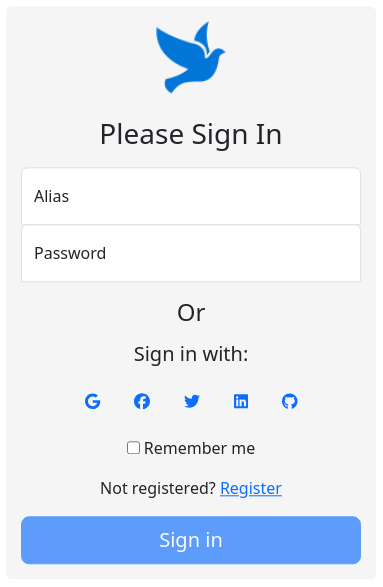
Test: Login Component › disables the signin button if either field is cleared
In the field labelled "Alias": (191, 196) [21,167,361,225], type "a"
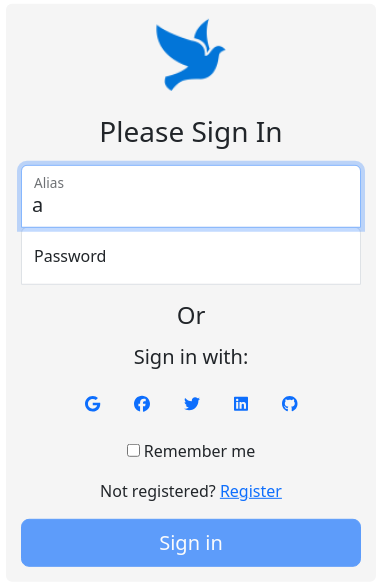
In the password field labelled "Password": (191, 255) [21,226,361,284], type "b"
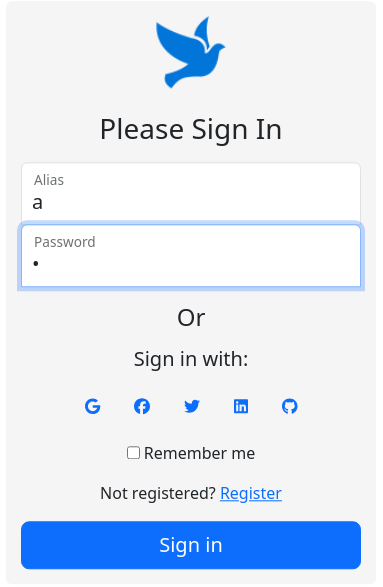
expect the button with aria-label "submitButton" is enabled: met, box [21,522,361,570]
Clear the field labelled "Alias": (191, 193) [21,162,361,225]
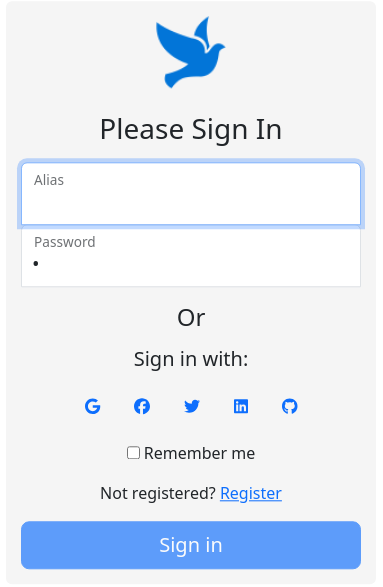
expect the button with aria-label "submitButton" is disabled: met, box [21,522,361,570]
In the field labelled "Alias": (191, 193) [21,162,361,225], type "1"
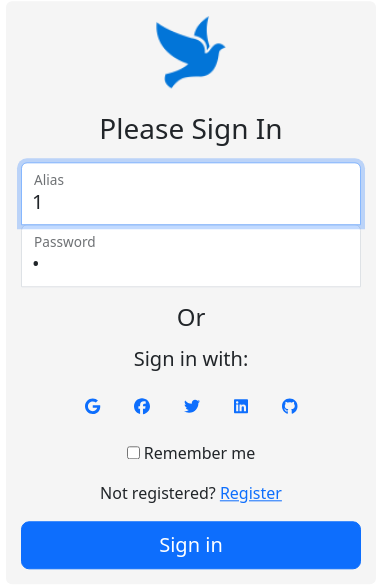
expect the button with aria-label "submitButton" is enabled: met, box [21,522,361,570]
Clear the password field labelled "Password": (191, 255) [21,224,361,287]
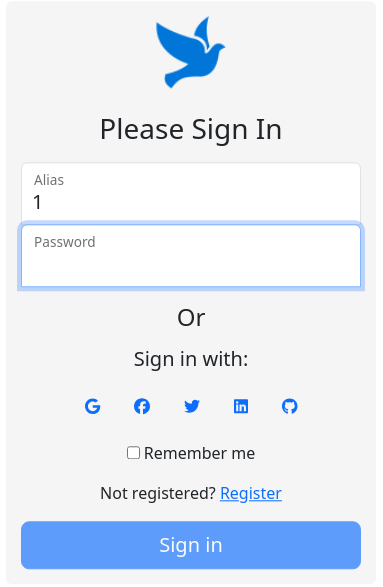
expect the button with aria-label "submitButton" is disabled: met, box [21,522,361,570]
